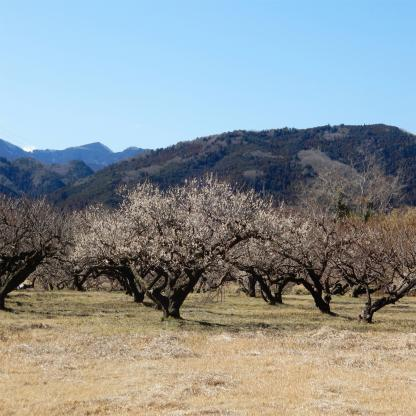Ume: (75, 172, 306, 312), (265, 178, 416, 320), (0, 191, 109, 291)
